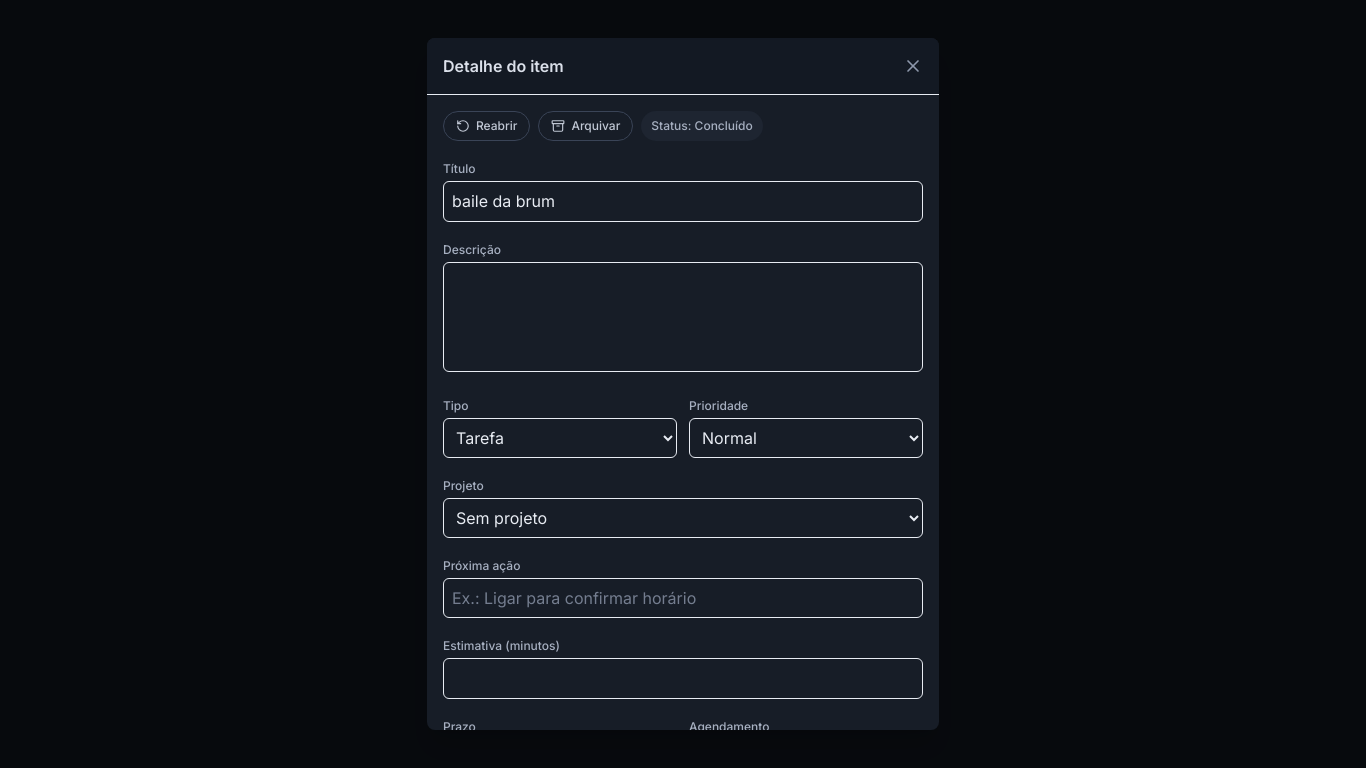
ItemDetailModal › reabre uma tarefa concluída
Expected: the field labelled "Título" is shown, [443,181,923,222]
Click the button "Reabrir" at (487, 126), box [443,111,530,141]
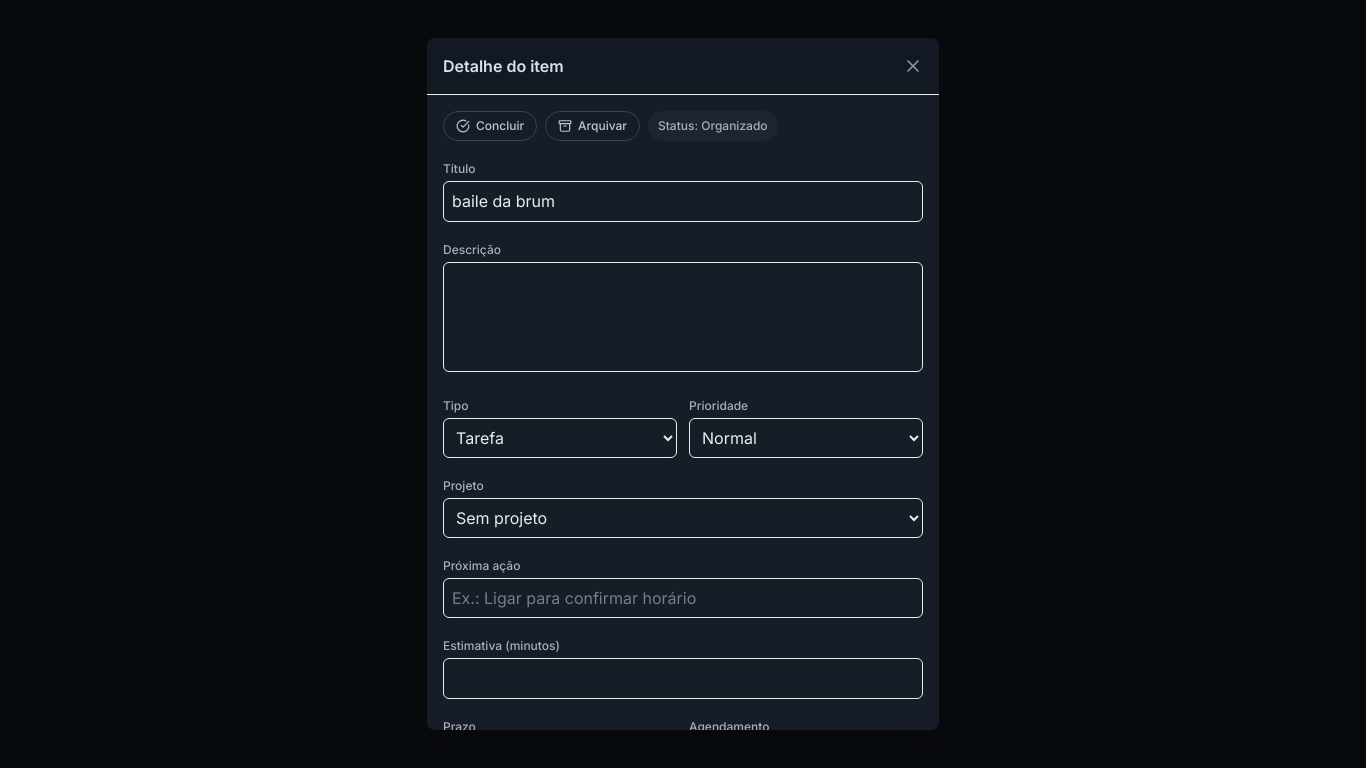
Expected: the text "Status: Organizado" is shown, [648,111,778,141]
